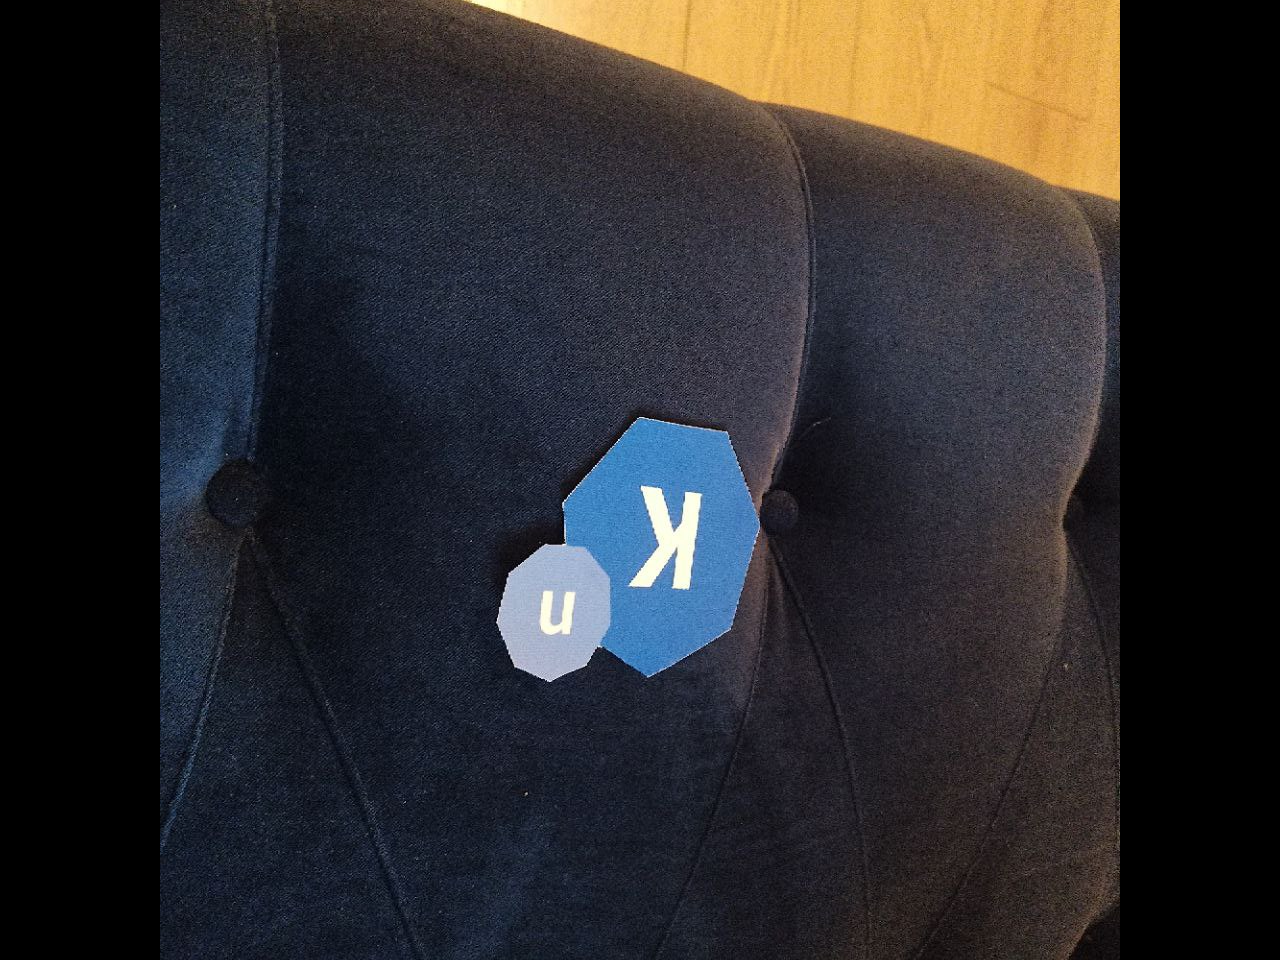knative: (491, 413, 762, 686)
